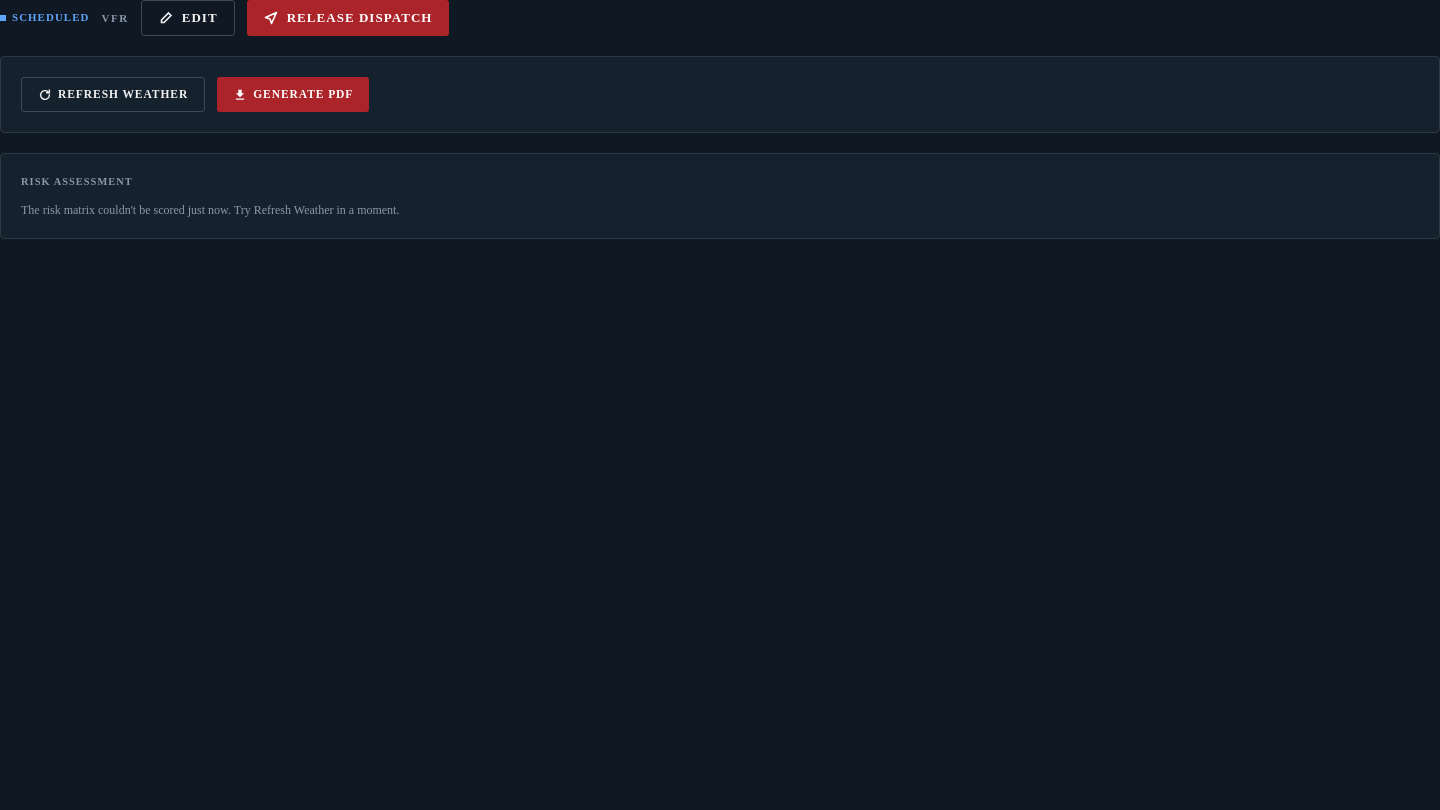
Test case: RightColumn / Generate PDF button › renders Generate PDF as a button that opens the release-confirm dialog when the flight is still scheduled
Click the button "Generate PDF": click(293, 95) x1=217 y1=77 x2=369 y2=112
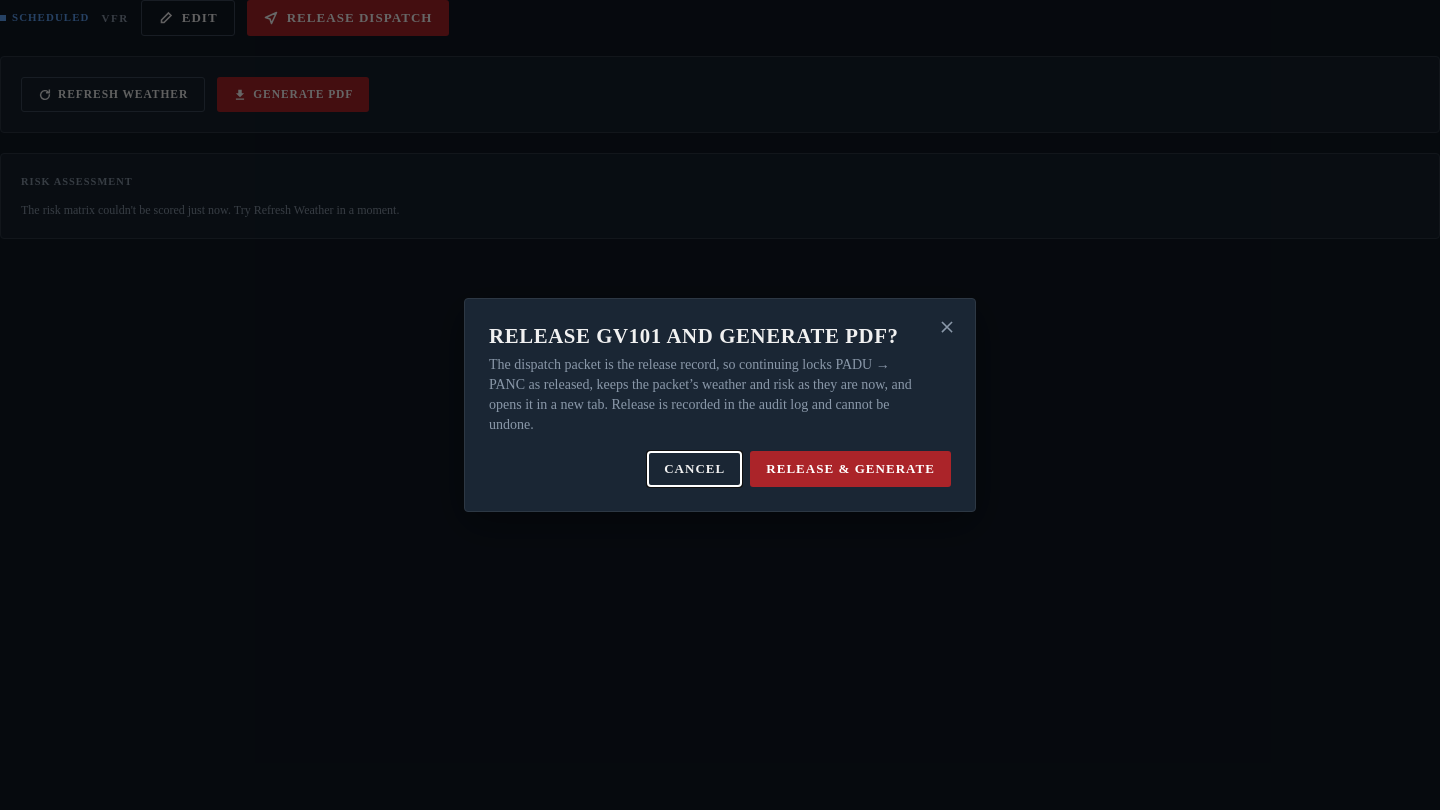
Check: the dialog is shown, box x1=464 y1=298 x2=976 y2=512
Check: the heading "Release GV101 and generate PDF?" is shown, box x1=489 y1=323 x2=919 y2=349
Check: the button "Release & generate" is shown, box x1=750 y1=451 x2=951 y2=487
